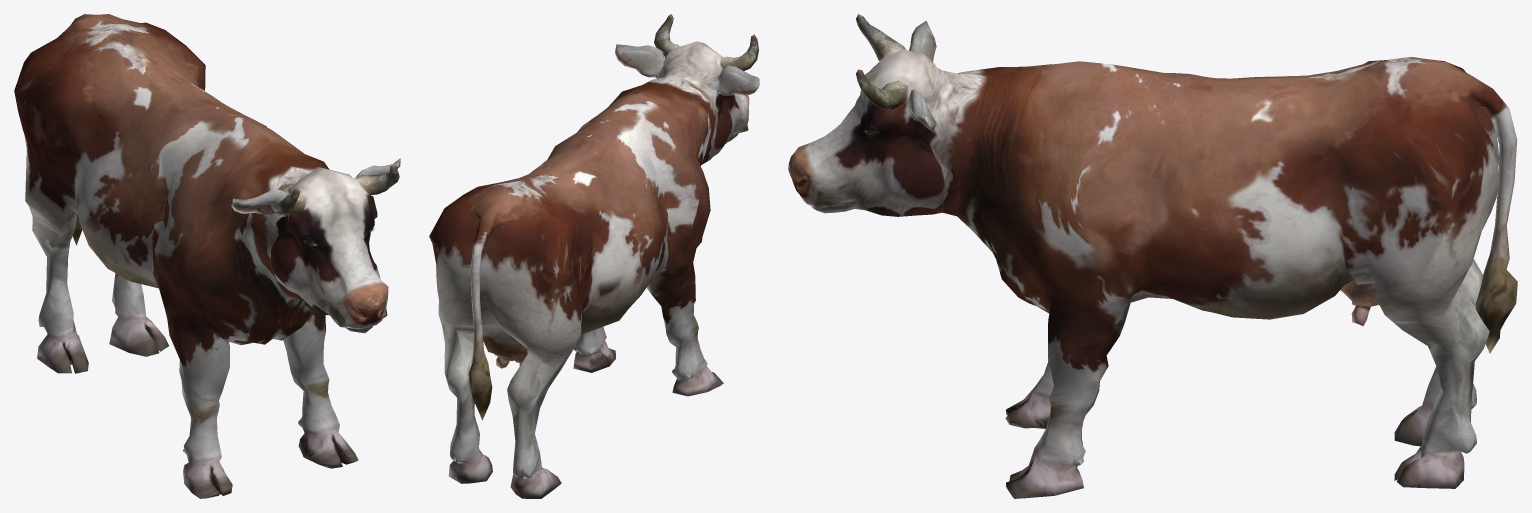
The model's file is cow.glb.
3 views of the same model, side by side, from view 1: azimuth 30°, elevation 25°; view 2: azimuth 150°, elevation 25°; view 3: azimuth 270°, elevation 25° (orthographic). The views are drawn at different scales.
Parts seen in each view (by area): view 1: cow; view 2: cow; view 3: cow.
Part boxes in pixels (x1,y1,x2,y2): cow: (14,14,400,498); cow: (429,14,759,498); cow: (788,14,1517,498).
Size of the model in its own units: 0.7654 by 1.55 by 2.45.
2 materials, 2 textured.
